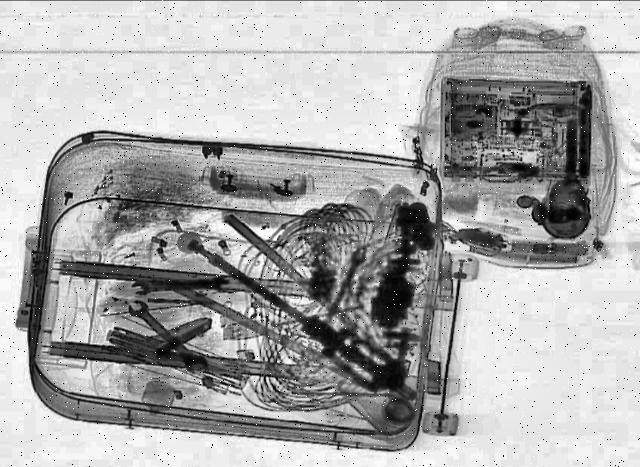Pliers: (144, 212, 438, 414)
Wrench: (120, 296, 208, 373), (129, 275, 229, 296)
